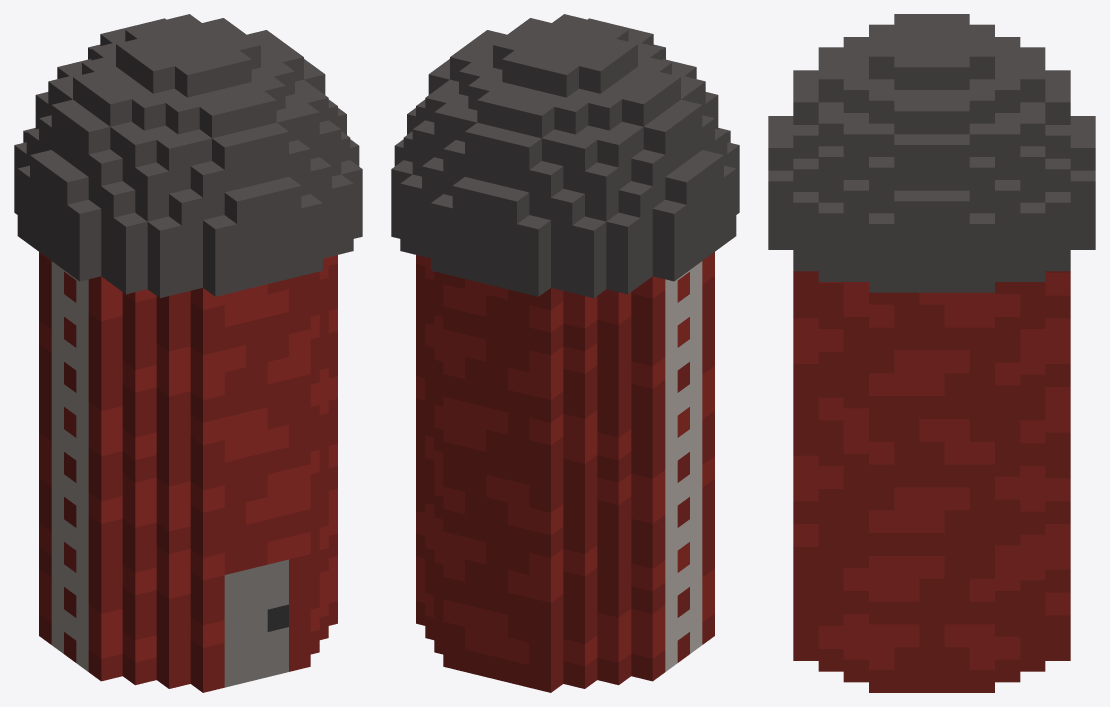
The model's file is granjafinal_torre.obj.
3 views of the same model, side by side, from view 1: azimuth 30°, elevation 25°; view 2: azimuth 150°, elevation 25°; view 3: azimuth 270°, elevation 25° (orthographic).
Size of the model in its own units: 1.3 by 2.6 by 1.3.
Materials: 1 (1 with a texture image).
